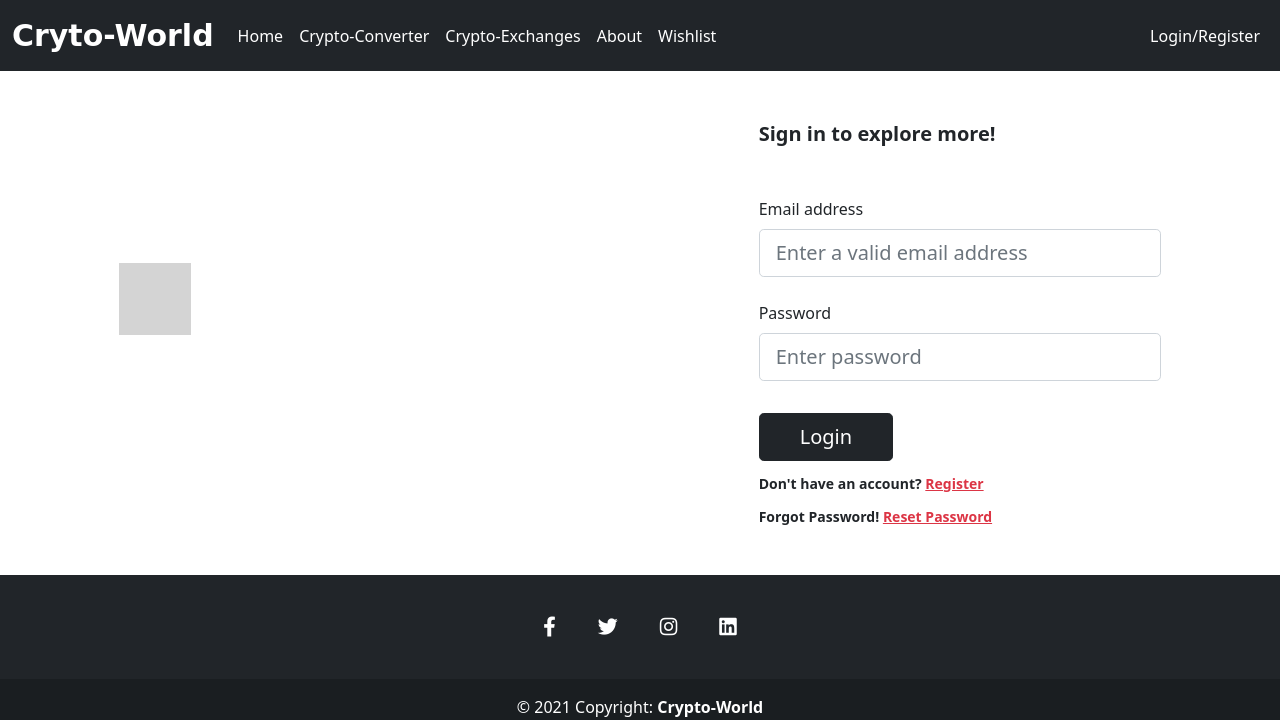
Test: Crypto World e2e testing › Should check for login
Type "tarun4@gmail.com" into the field with id "loginemail".
click(961, 253); type("tarun4@gmail.com")  # box [759,229,1162,277]
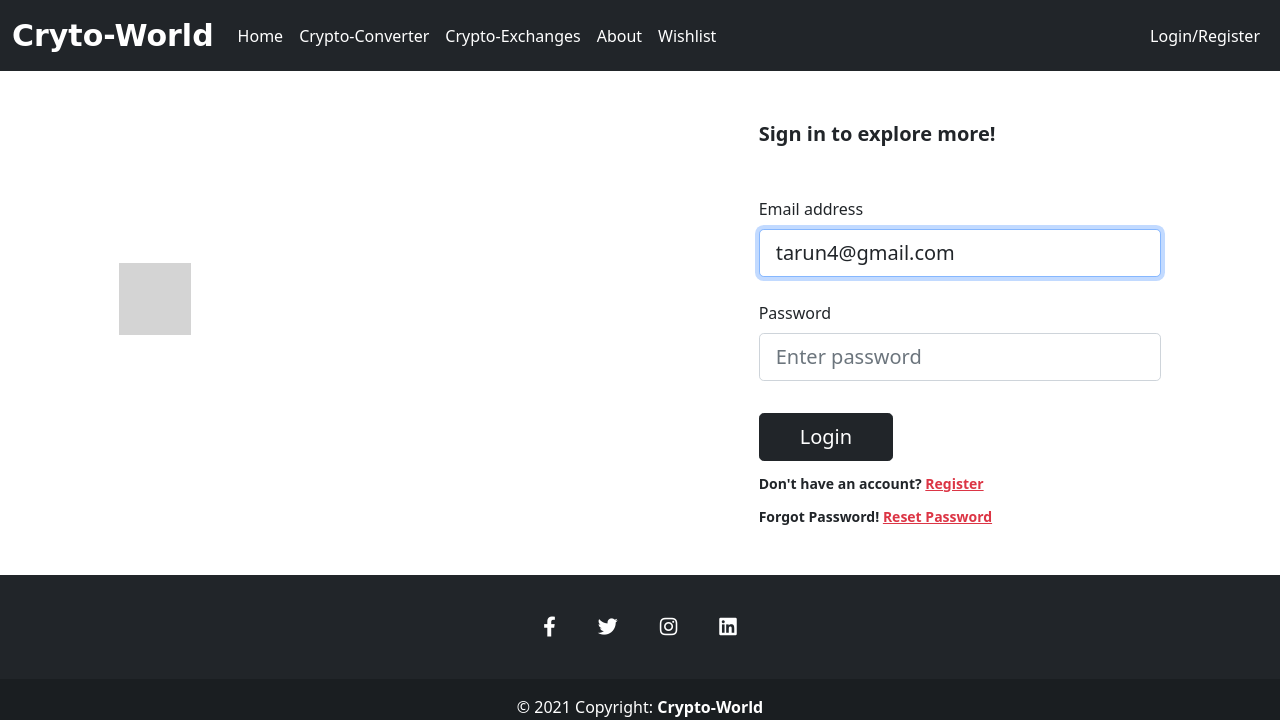
Type "123456789" into the password field with id "loginpassword".
click(961, 357); type("123456789")  # box [759,333,1162,381]
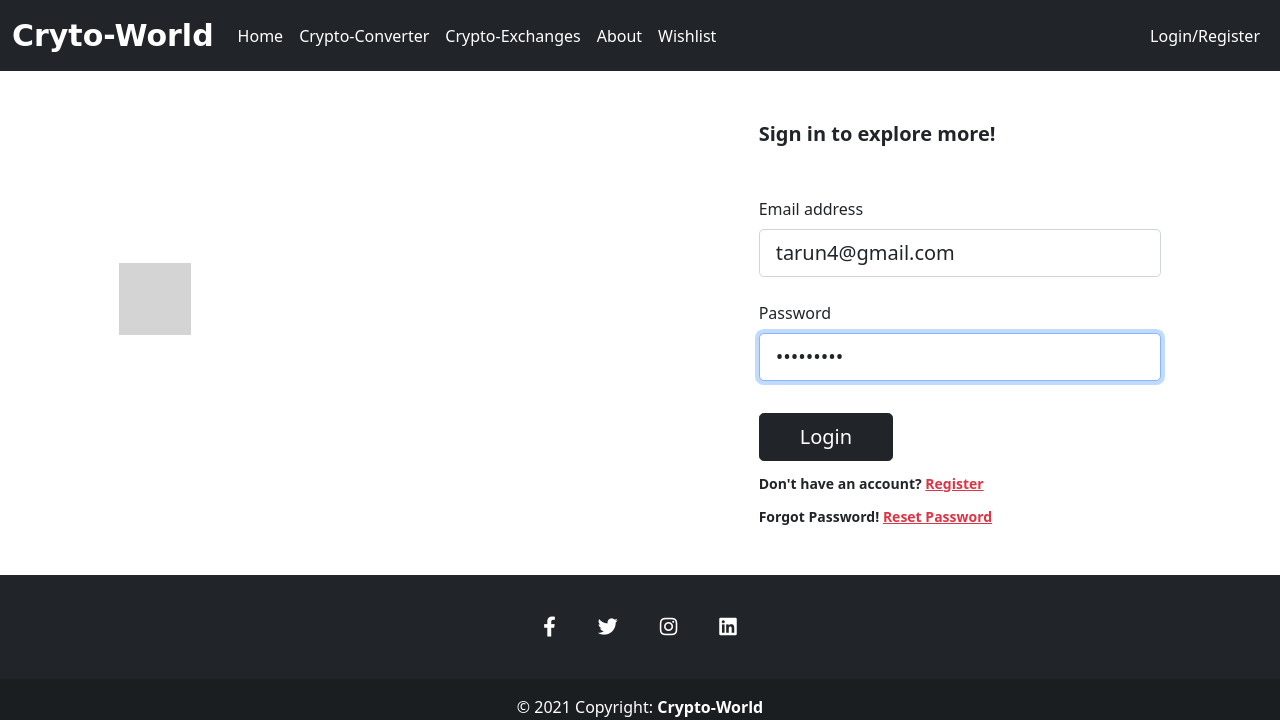
Click the button with id "loginbtn".
click(826, 437)  # box [759,413,893,461]
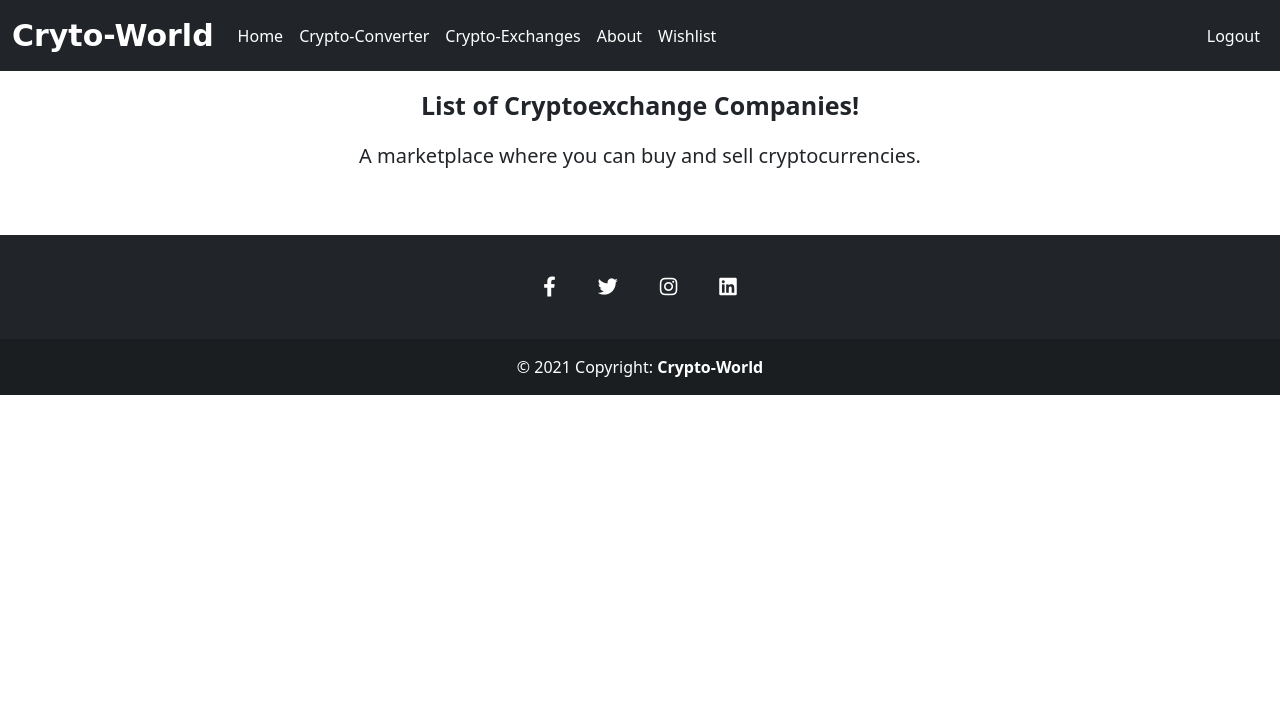
Expected: the text with id "cryptocompanies" reads "List of Cryptoexchange Companies!", [421,88,859,122]
